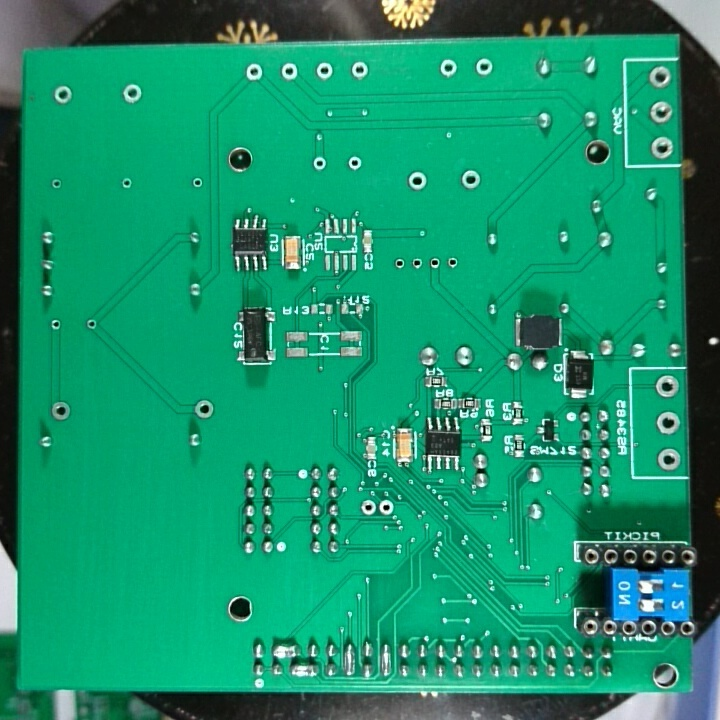F: (654, 373, 681, 400), (655, 410, 682, 436), (648, 98, 674, 125), (647, 63, 671, 92), (657, 446, 682, 473), (648, 135, 674, 160), (119, 80, 145, 105), (48, 400, 74, 424), (405, 167, 429, 192), (314, 59, 338, 83), (437, 55, 460, 80), (459, 167, 482, 192), (51, 83, 75, 106), (279, 59, 299, 85), (350, 58, 372, 81), (193, 398, 215, 421), (343, 152, 365, 175), (473, 55, 494, 79), (243, 62, 265, 84), (308, 154, 331, 175), (359, 495, 377, 518), (377, 498, 394, 518), (408, 255, 426, 273), (442, 254, 460, 272), (83, 315, 100, 334), (389, 255, 408, 272), (188, 174, 205, 192), (427, 255, 444, 272), (48, 316, 63, 334), (49, 175, 65, 191), (119, 175, 134, 192)
P: (288, 660, 320, 680), (341, 640, 357, 678), (379, 640, 395, 678), (270, 640, 300, 659)
